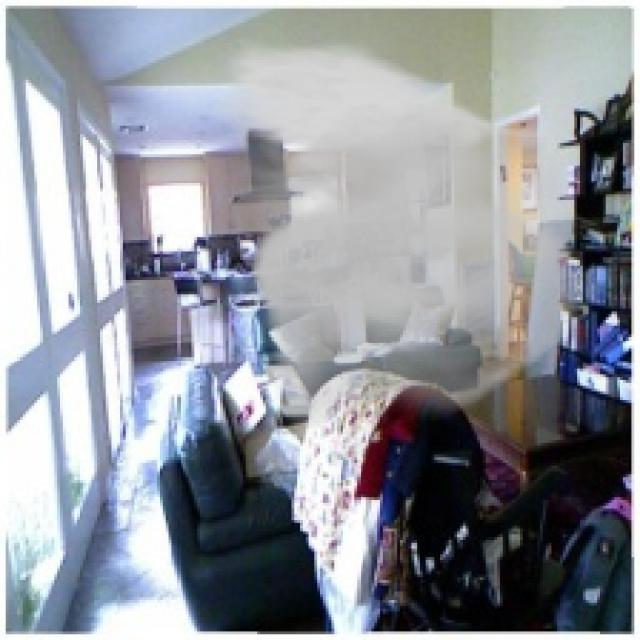Smoke: (205, 37, 598, 429)
